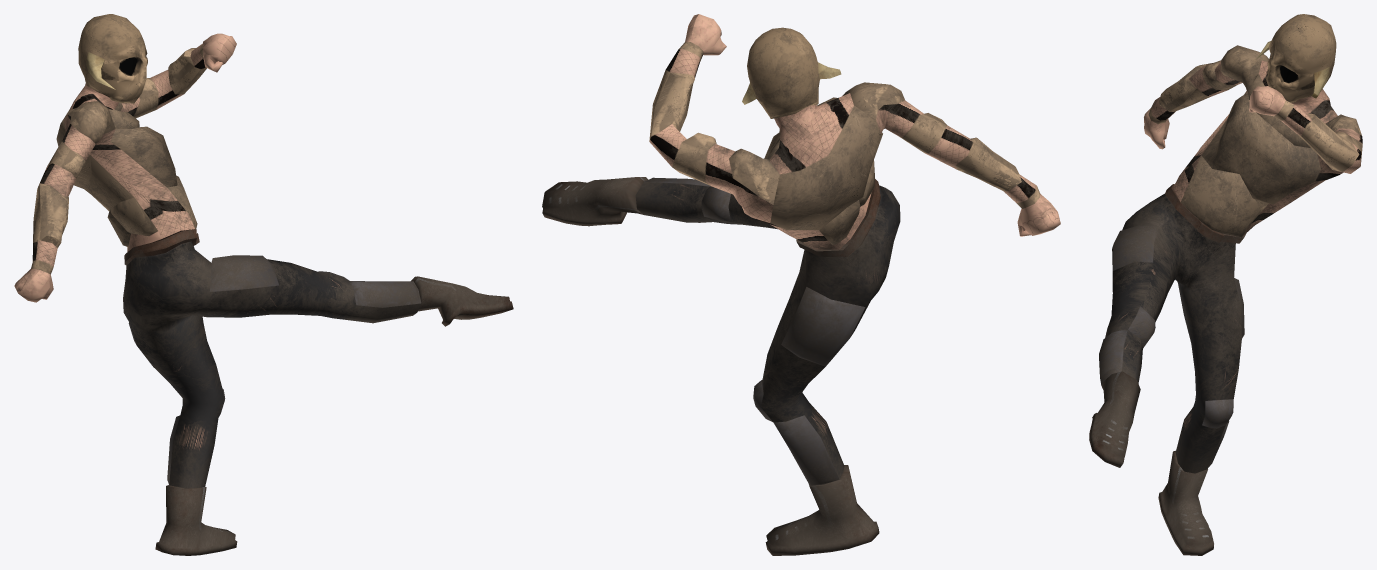
File: Anim_ataque_f1_npc1.0022.obj
3 renders of one model, left to right at view 1: azimuth 30°, elevation 25°; view 2: azimuth 150°, elevation 25°; view 3: azimuth 270°, elevation 25°, orthographic. The views are drawn at different scales.
Visible parts, largest first — view 1: NPC2; view 2: NPC2; view 3: NPC2.
Boxes of the visible parts, <box> form: NPC2: <box>14,14,513,555</box>; NPC2: <box>542,14,1060,555</box>; NPC2: <box>1089,14,1362,555</box>.
Size of the model in its own units: 8.71 by 8.89 by 4.36.
